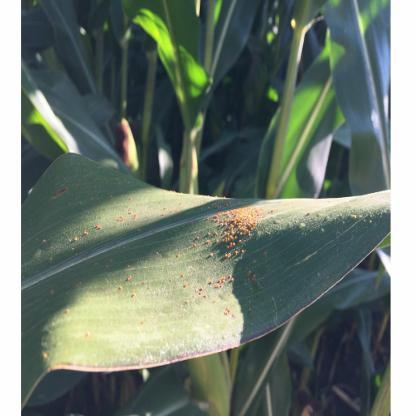Corn rust leaf: (22, 146, 391, 375)
